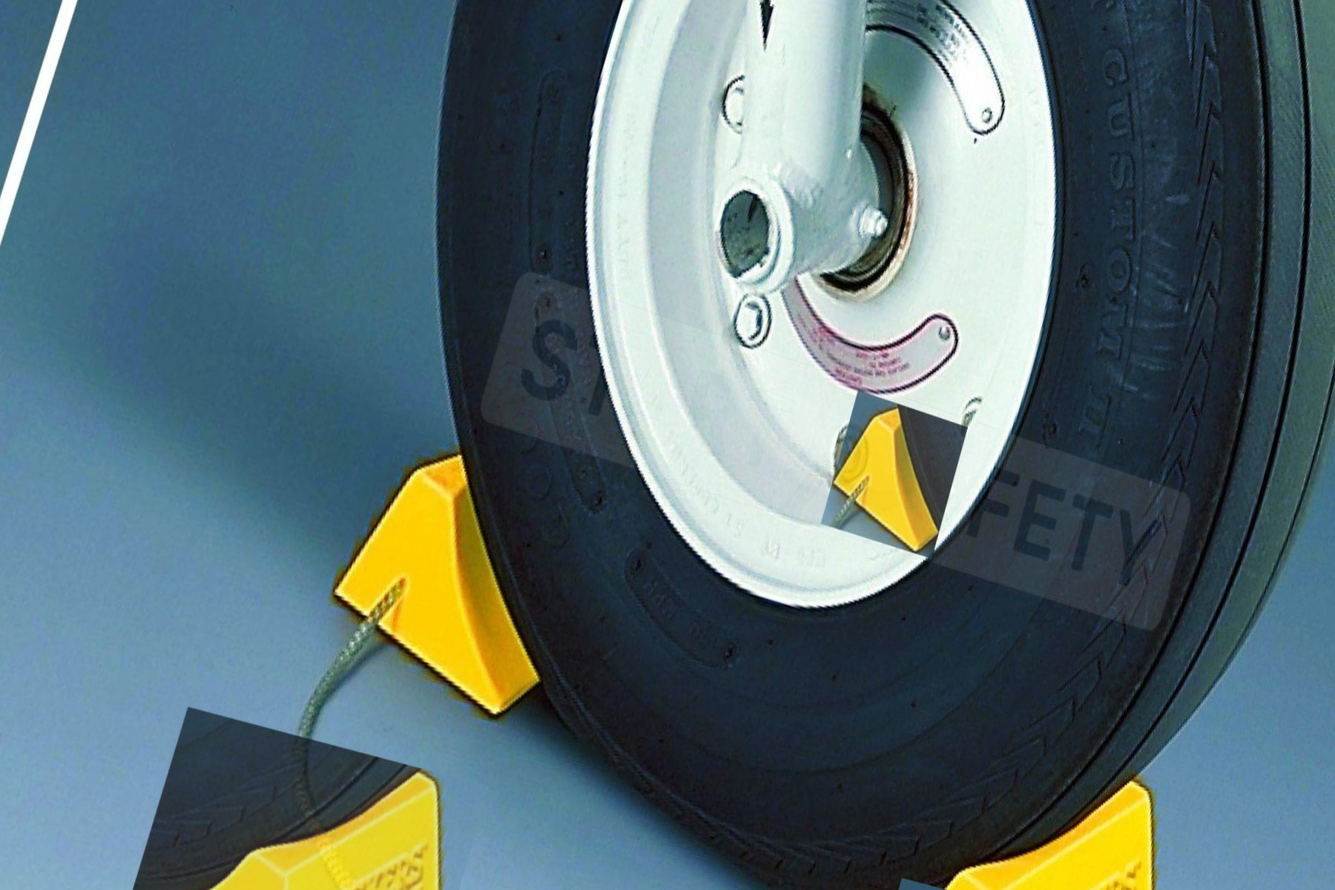chock: (307, 421, 600, 733), (805, 700, 1208, 890), (97, 701, 493, 890), (819, 390, 969, 559)
wheel: (196, 0, 1335, 890)
